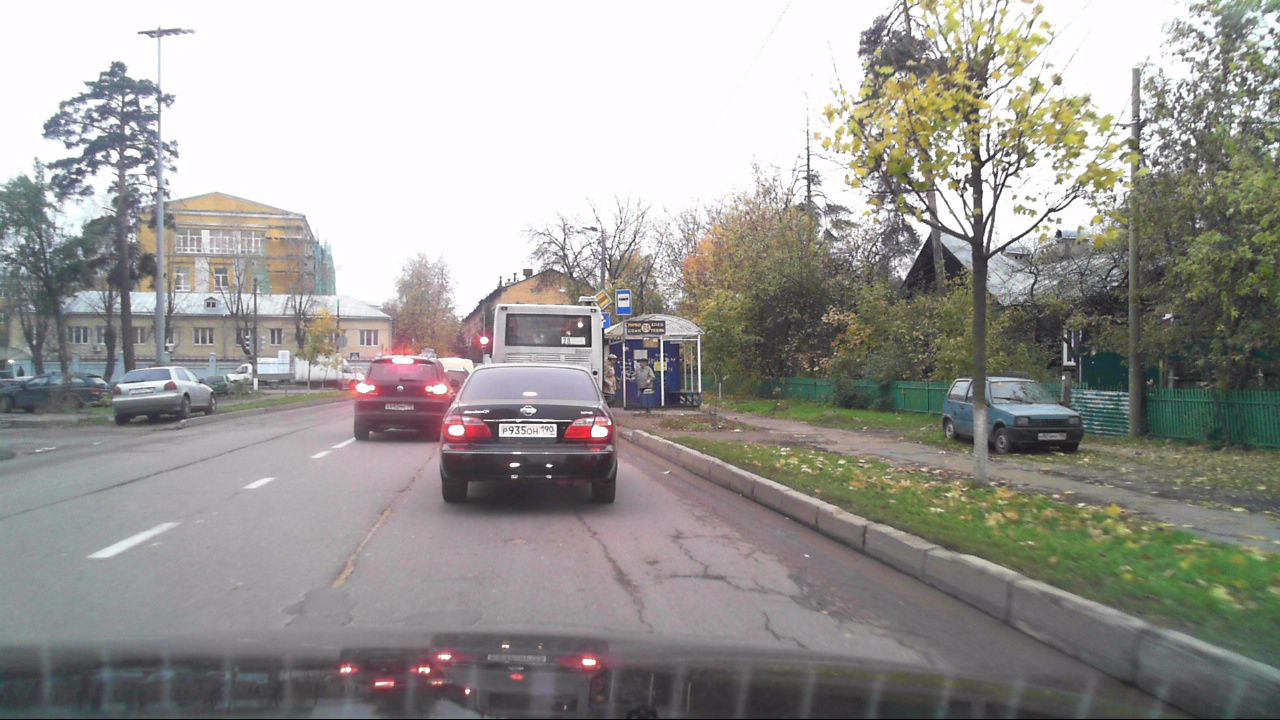main road: (593, 289, 613, 310)
